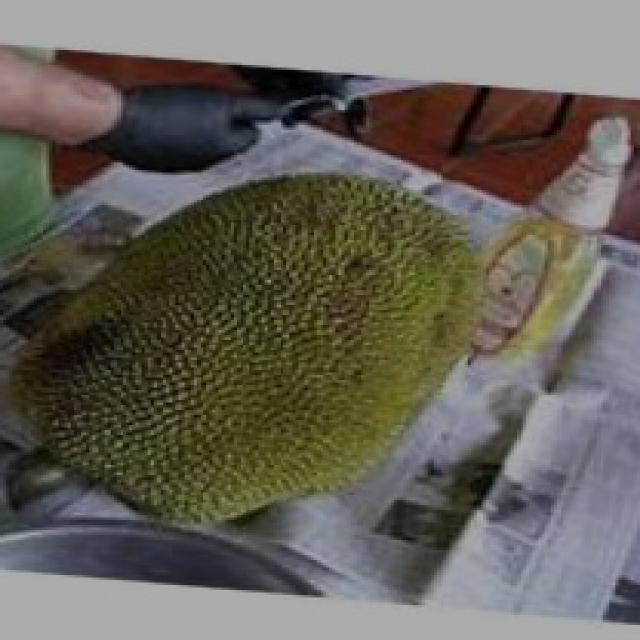Fruit: (120, 152, 520, 542)
